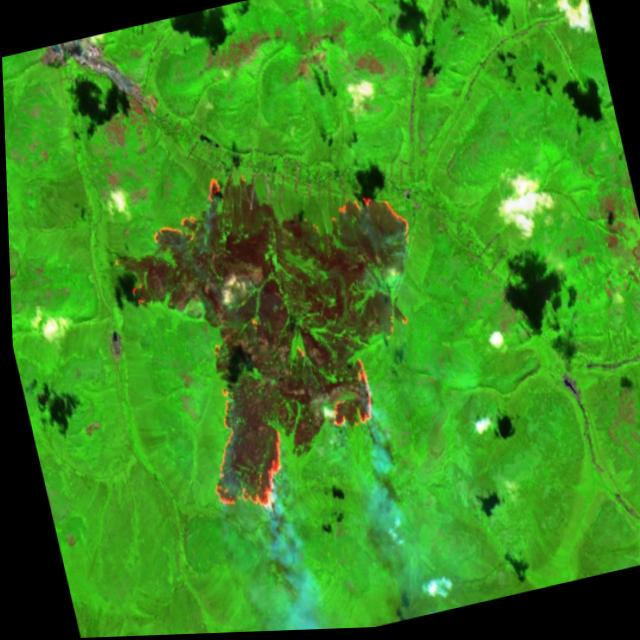fire: (95, 133, 471, 542)
